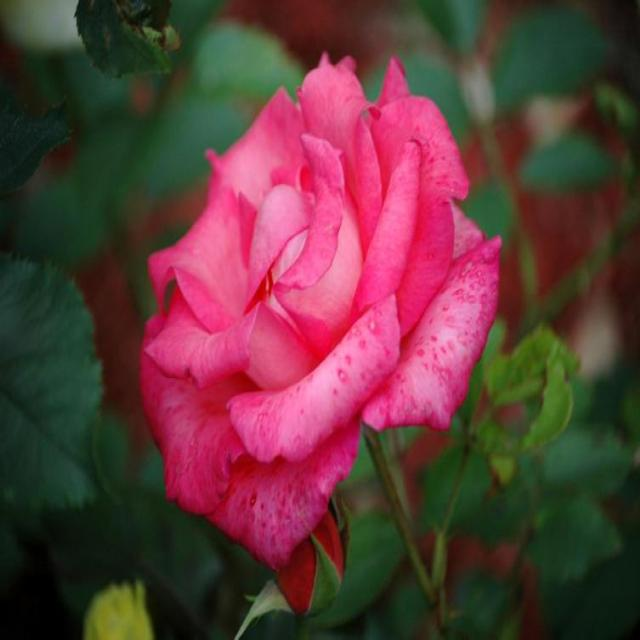rose: (141, 42, 512, 570)
